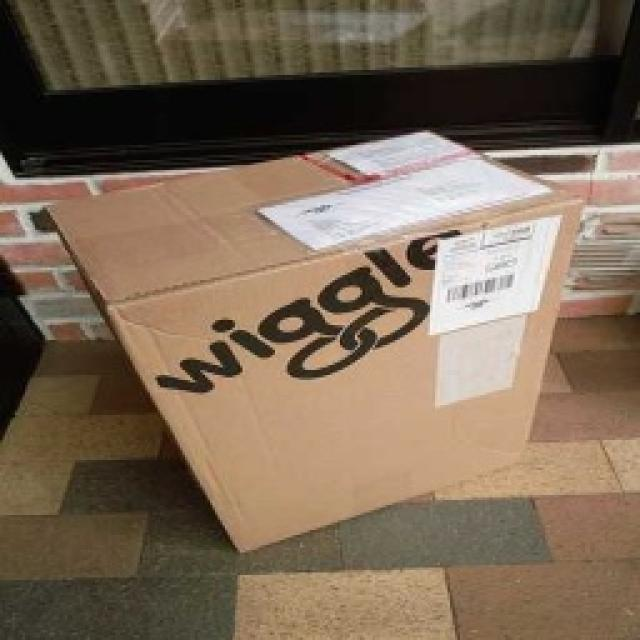box: (19, 109, 621, 571)
